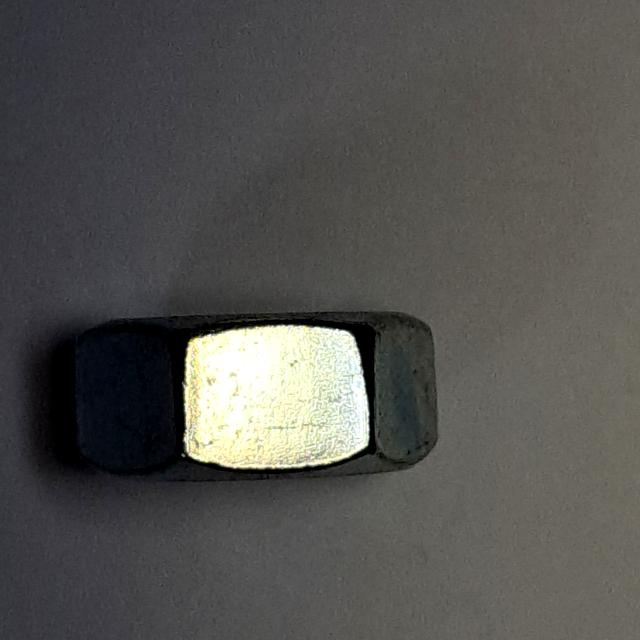Side_Excellent: (55, 292, 461, 511)
